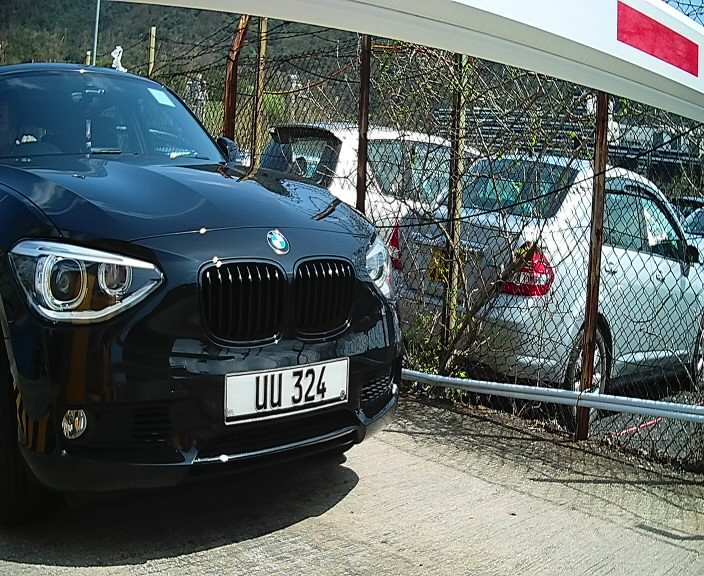License Plate: (219, 351, 356, 430)
